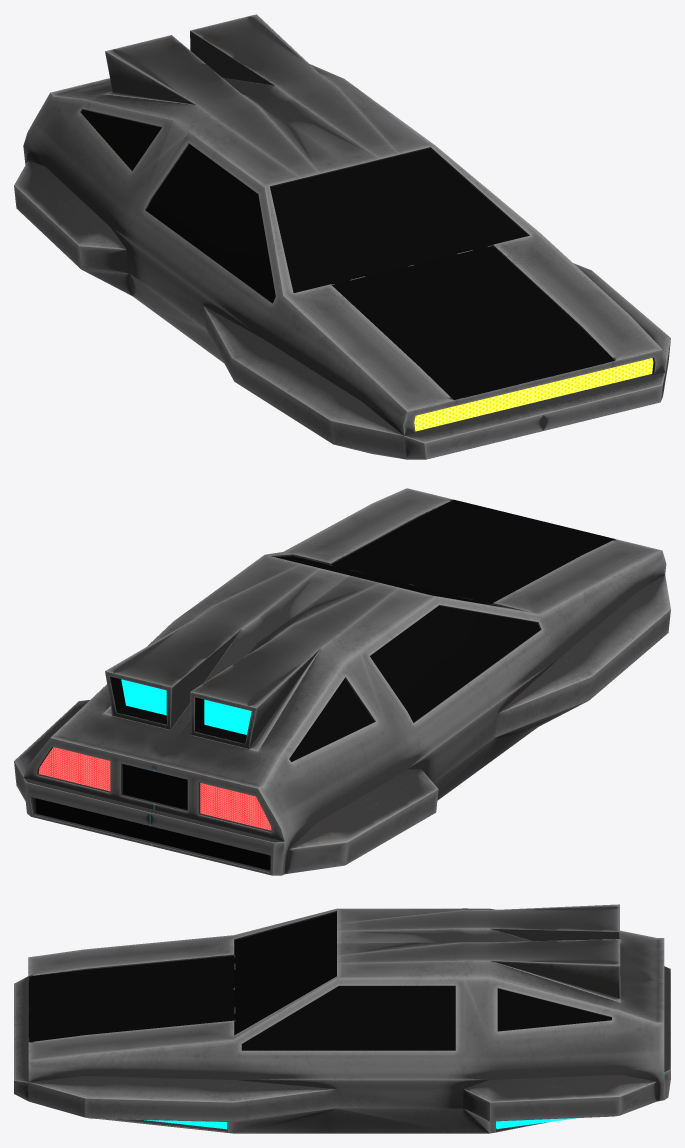
The model's file is sci-fi_car.fbx.
3 views of the same model, one above another, from view 1: azimuth 30°, elevation 25°; view 2: azimuth 150°, elevation 25°; view 3: azimuth 270°, elevation 25° (orthographic). The views are drawn at different scales.
Visible parts, largest first — view 1: DMC Sci-Fi Hover Car; view 2: DMC Sci-Fi Hover Car; view 3: DMC Sci-Fi Hover Car.
Boxes of the visible parts, x1=… form: DMC Sci-Fi Hover Car: x1=14, y1=14, x2=670, y2=459; DMC Sci-Fi Hover Car: x1=14, y1=488, x2=670, y2=875; DMC Sci-Fi Hover Car: x1=14, y1=904, x2=670, y2=1133.
Bounding box in the file's own units: 441 × 206 × 835.
Materials: 1 (1 with a texture image).
